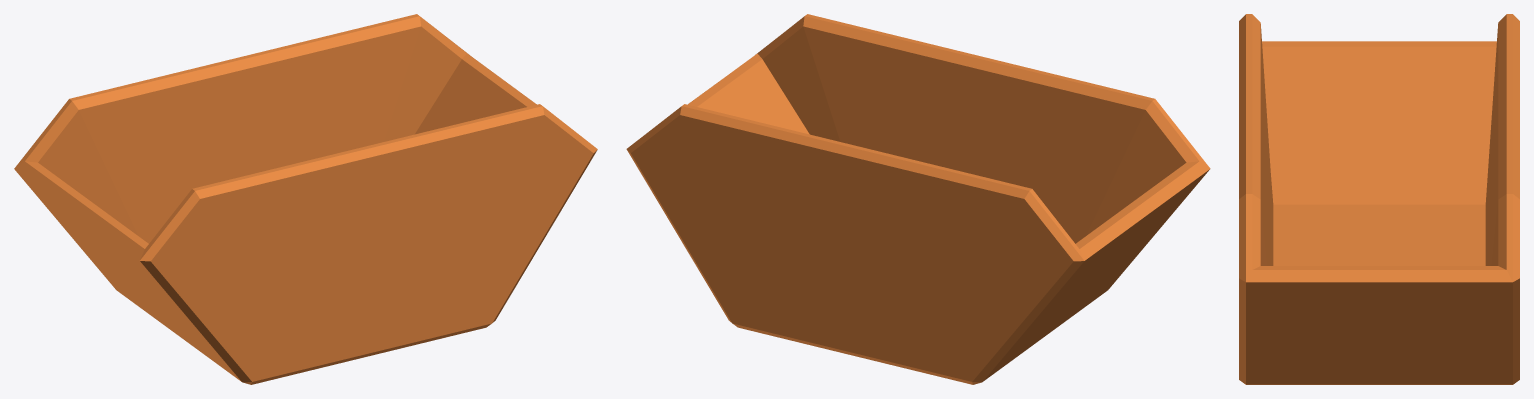
The model's file is Skip.glb.
The picture shows the model from 3 angles, left to right: view 1: azimuth 30°, elevation 25°; view 2: azimuth 150°, elevation 25°; view 3: azimuth 270°, elevation 25°; orthographic projection. The views are drawn at different scales.
Parts seen in each view (by area): view 1: Skip; view 2: Skip; view 3: Skip.
Boxes of the visible parts, box(x1,y1,x2,y2) form: Skip: box(14, 14, 597, 384); Skip: box(626, 14, 1210, 384); Skip: box(1239, 14, 1519, 384).
Size of the model in its own units: 579 by 251 by 290.
